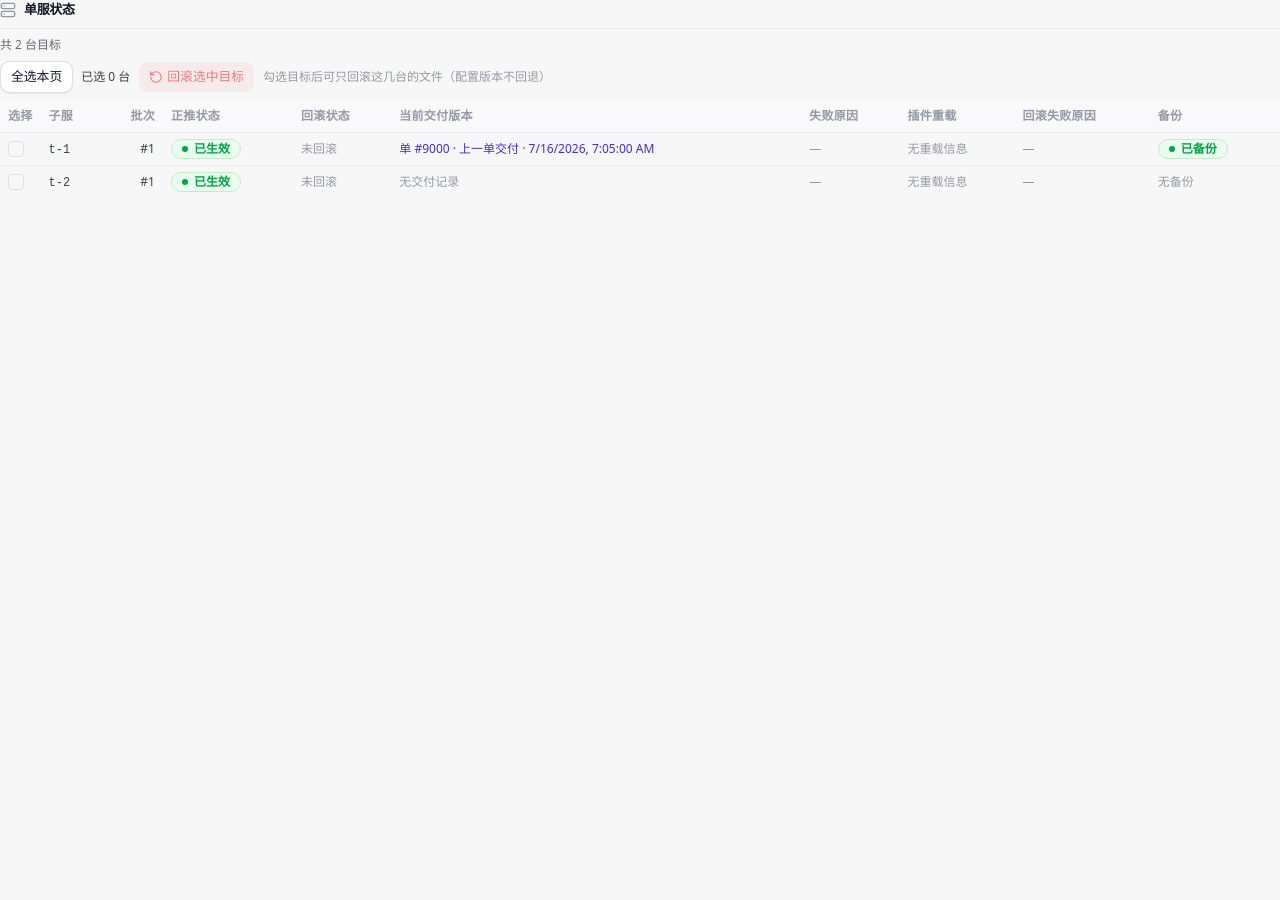
Test: 目标级回滚与回滚预检 › FR-255r：勾选目标后弹窗先列明「不可文件回滚」的台
Expected: the column heading "批次" is shown, [102,100,163,132]
Click the checkbox named "t-2" at (16, 182), box [8,174,24,190]
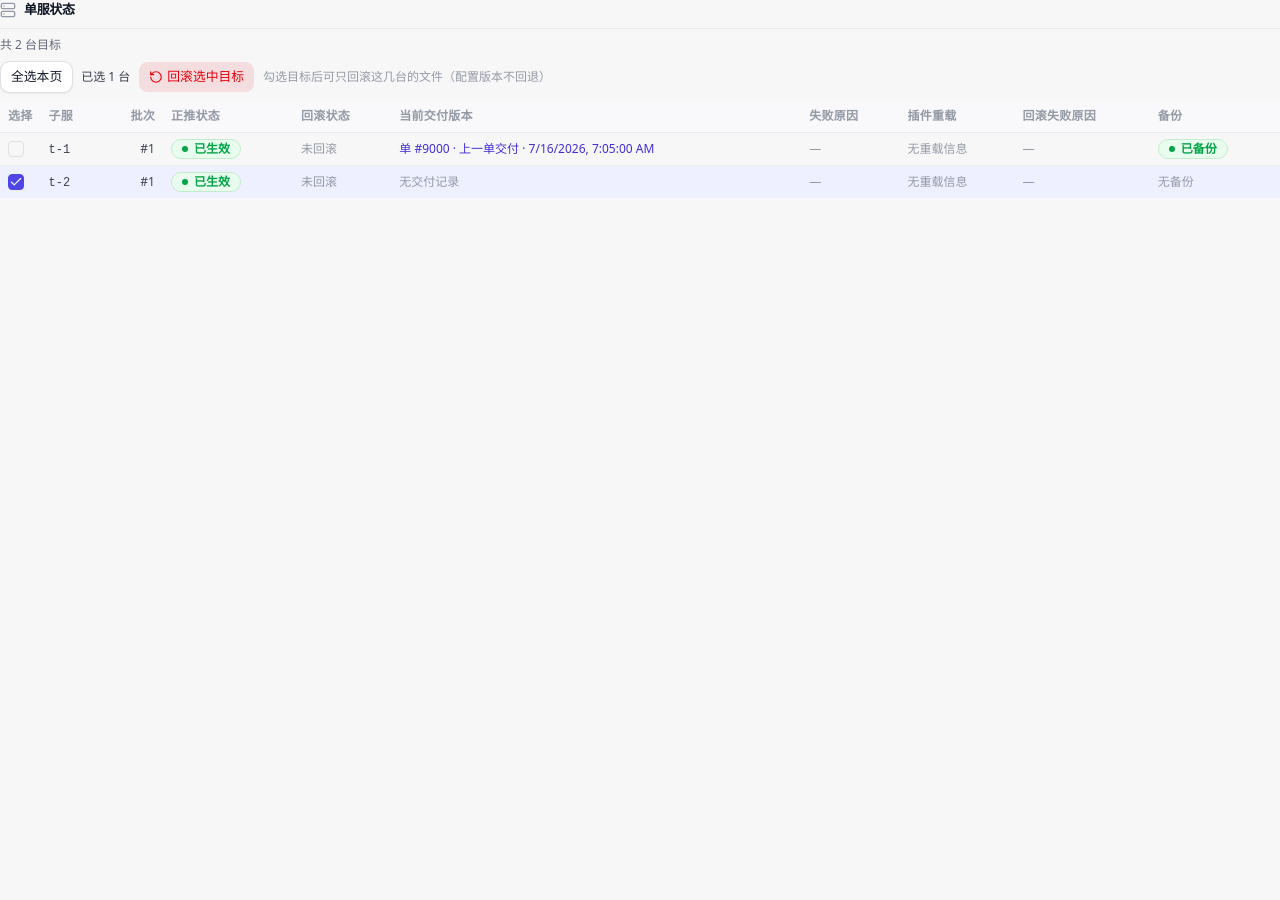
Click the button "回滚选中目标" at (197, 76), box [138,60,255,92]
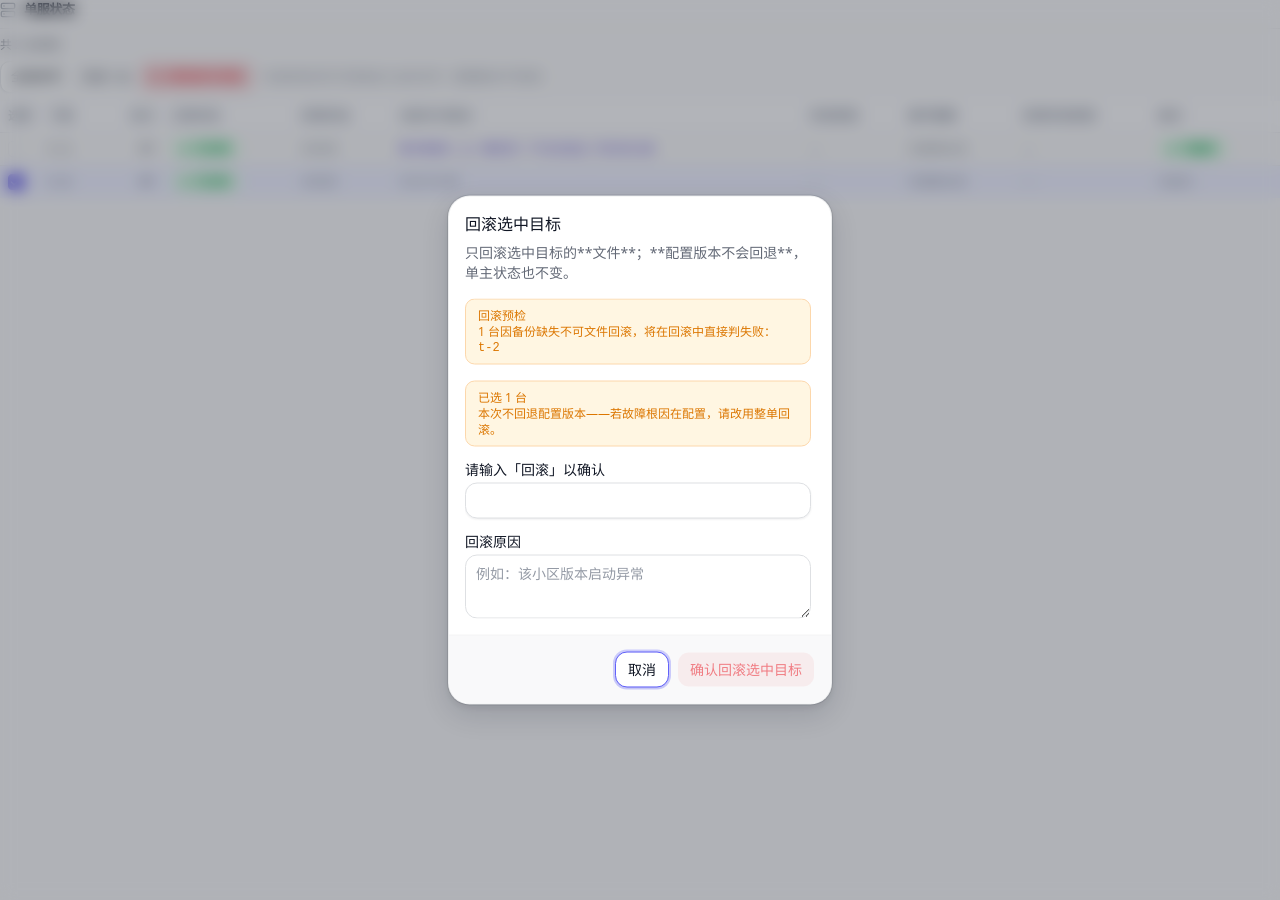
Result: the text "回滚预检" is shown at [478,306,526,324]
Result: the text "1 台因备份缺失不可文件回滚，将在回滚中直接判失败：" is shown at [478,324,798,340]
